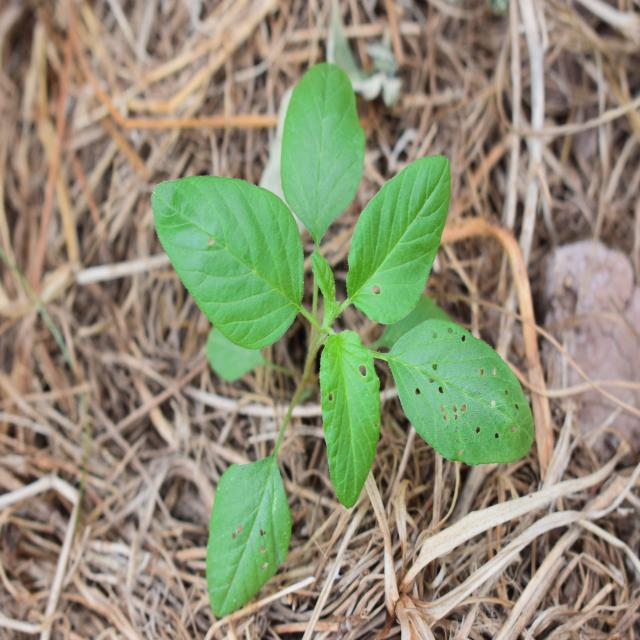pigweed: (148, 56, 534, 516)
